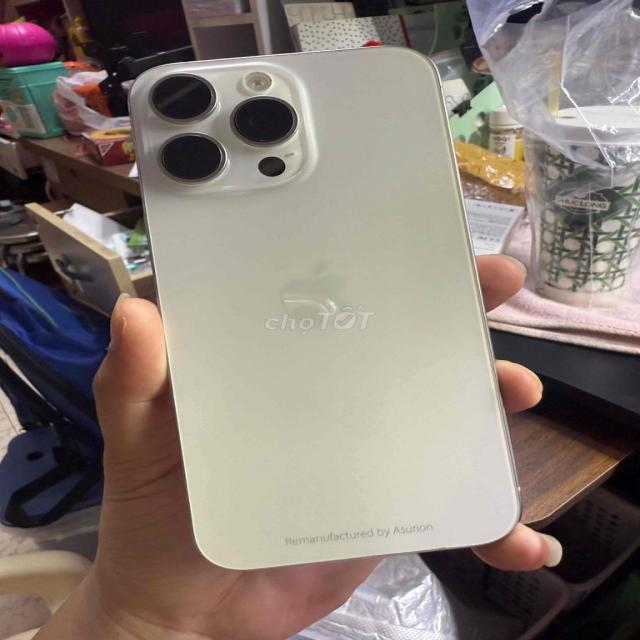gen_15: (121, 48, 526, 576)
